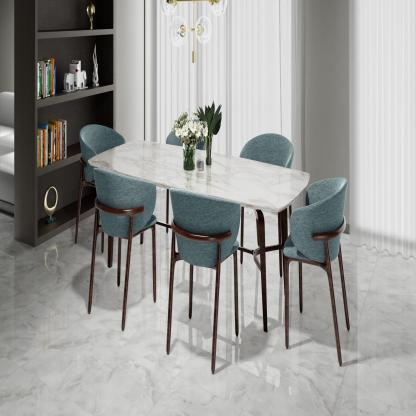Ceramic floor: (0, 217, 416, 416), (172, 260, 216, 340), (217, 255, 237, 342), (155, 225, 173, 312), (243, 252, 263, 328), (266, 251, 281, 324), (237, 209, 259, 250), (153, 187, 173, 225), (263, 212, 279, 247)
